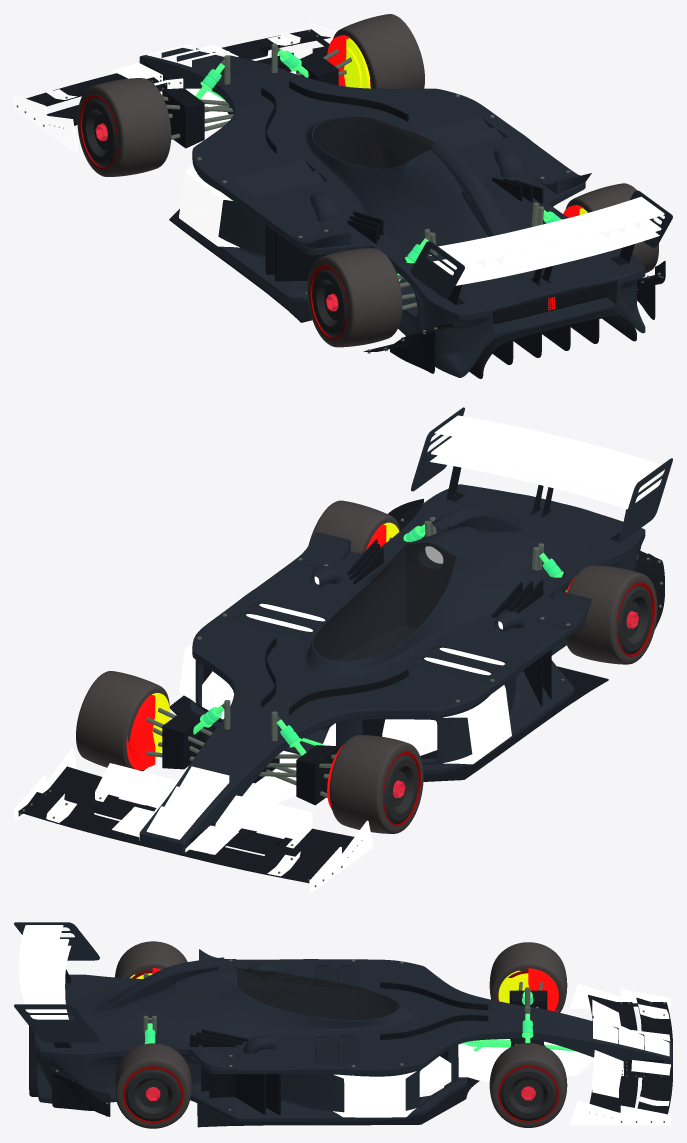
The picture shows the model from 3 angles, top to bottom: view 1: azimuth 30°, elevation 25°; view 2: azimuth 150°, elevation 25°; view 3: azimuth 270°, elevation 25°; orthographic projection. The views are drawn at different scales.
Visible parts, largest first — view 1: Plane_0, Plane.004_5, Circle.019_60, Circle.005_59, Plane.025_38, Circle.007_57, Cube.004_52, Plane.001_1, Plane.011_15, Plane.005_6, Plane.006_10, Cube.001_9 (+17 smaller); view 2: Plane_0, Plane.004_5, Plane.025_38, Plane.001_1, Circle.005_59, Circle.019_60, Circle.007_57, Plane.021_25, Cube.004_52, Plane.011_15, Plane.032_42, Plane.005_6 (+18 smaller); view 3: Plane_0, Circle.006_58, Circle.007_57, Plane.025_38, Plane.004_5, Plane.001_1, Plane.005_6, Plane.002_2, Plane.011_15, Circle.005_59, Plane.006_10, Plane.008_11 (+21 smaller).
Boxes of the visible parts, x1,y1,x2,y2 form: Plane_0: (139, 47, 645, 377); Plane.004_5: (433, 196, 664, 285); Circle.019_60: (307, 248, 402, 347); Circle.005_59: (77, 78, 171, 176); Plane.025_38: (313, 117, 434, 169); Circle.007_57: (333, 14, 424, 88); Cube.004_52: (162, 52, 338, 148); Plane.001_1: (26, 29, 330, 125); Plane.011_15: (179, 165, 239, 247); Plane.005_6: (411, 190, 672, 298); Plane.006_10: (265, 224, 326, 281); Cube.001_9: (493, 282, 608, 324); Plane_0: (139, 484, 645, 854); Plane.004_5: (430, 415, 661, 509); Plane.025_38: (313, 544, 455, 660); Plane.001_1: (18, 766, 354, 882); Circle.005_59: (329, 735, 423, 833); Circle.019_60: (565, 565, 657, 664); Circle.007_57: (76, 671, 169, 771); Plane.021_25: (95, 763, 312, 848); Cube.004_52: (162, 709, 338, 805); Plane.011_15: (179, 643, 511, 764); Plane.032_42: (146, 766, 229, 839); Plane.005_6: (411, 407, 672, 542); Plane_0: (34, 957, 672, 1121); Circle.006_58: (114, 1043, 191, 1128); Circle.007_57: (489, 1043, 567, 1127); Plane.025_38: (237, 968, 398, 1019); Plane.004_5: (19, 925, 71, 1019); Plane.001_1: (588, 995, 672, 1114); Plane.005_6: (14, 922, 99, 1042); Plane.002_2: (569, 984, 670, 1125); Plane.011_15: (333, 1071, 416, 1117); Circle.005_59: (489, 942, 567, 1012); Plane.006_10: (201, 1066, 280, 1114); Plane.008_11: (197, 1077, 479, 1127).
Bounding box in the file's own units: 7.41 × 3.15 × 16.68.
Materials: 15 (9 with a texture image).
